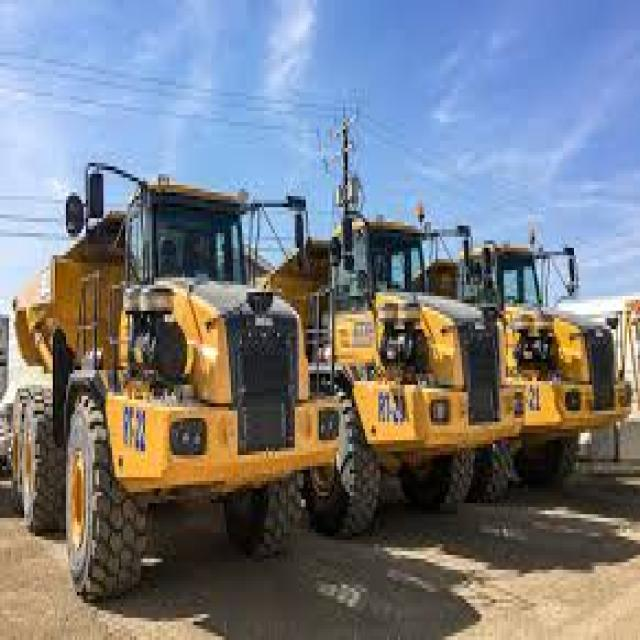dump_truck: (4, 144, 328, 574), (317, 185, 510, 551), (495, 222, 638, 514)
